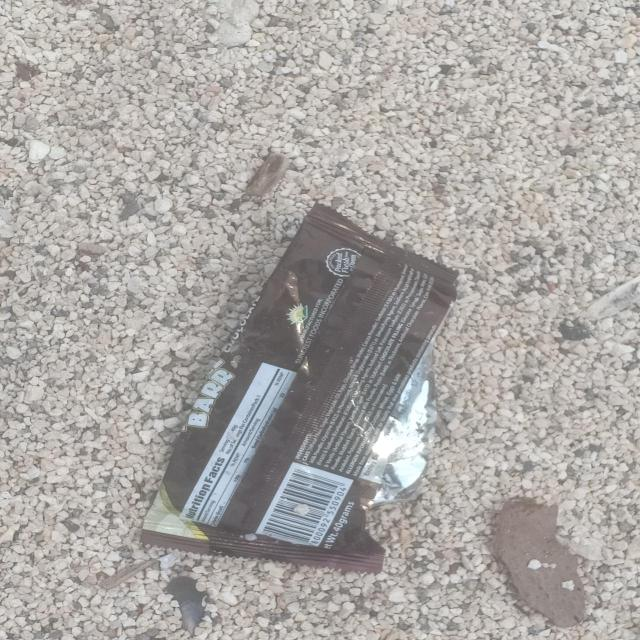plastic_waste: (137, 204, 459, 576)
